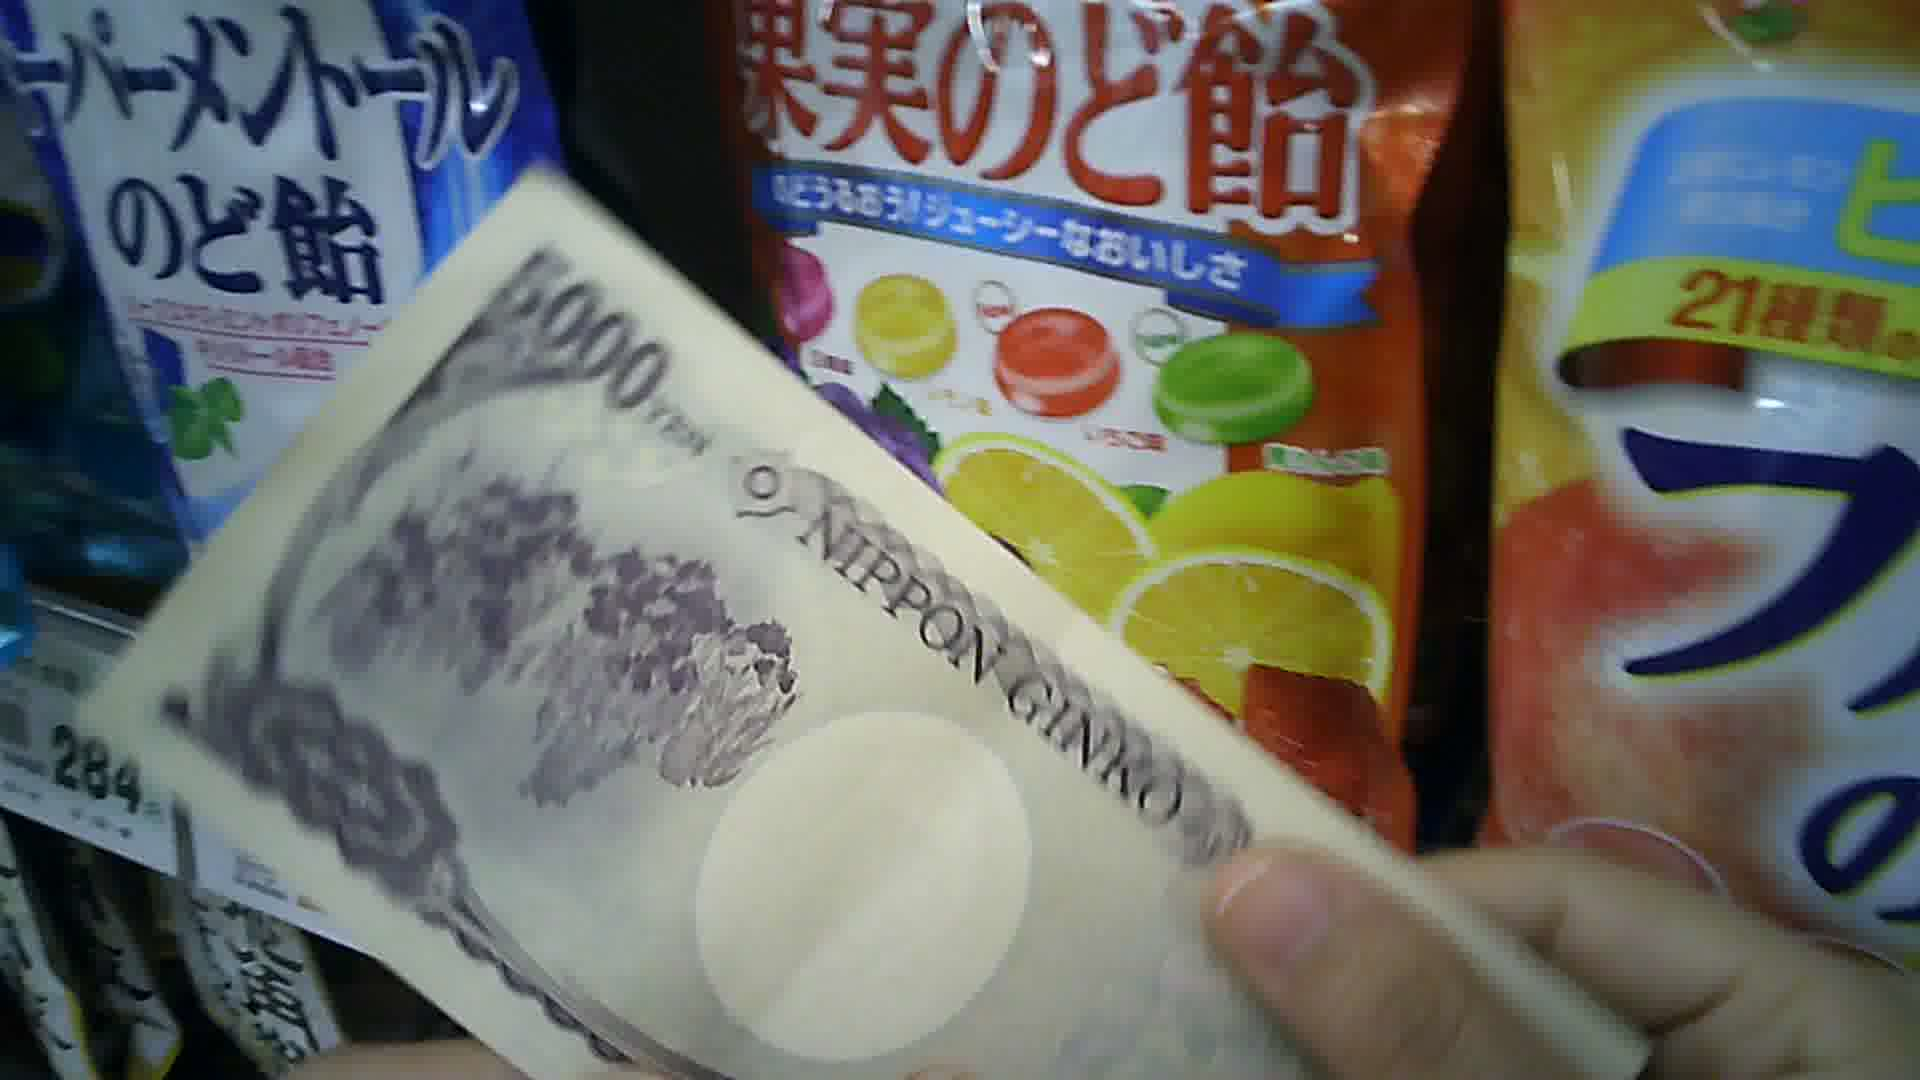5,000 Yen: (117, 175, 1458, 1079)
